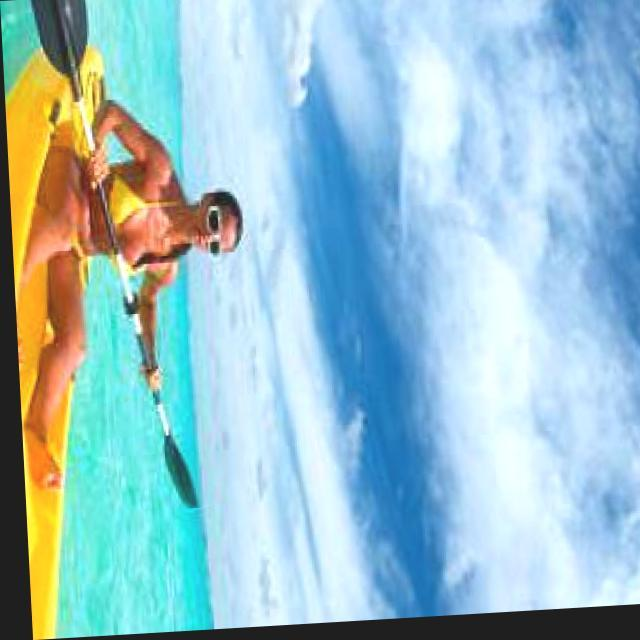kayak: (4, 0, 103, 640)
